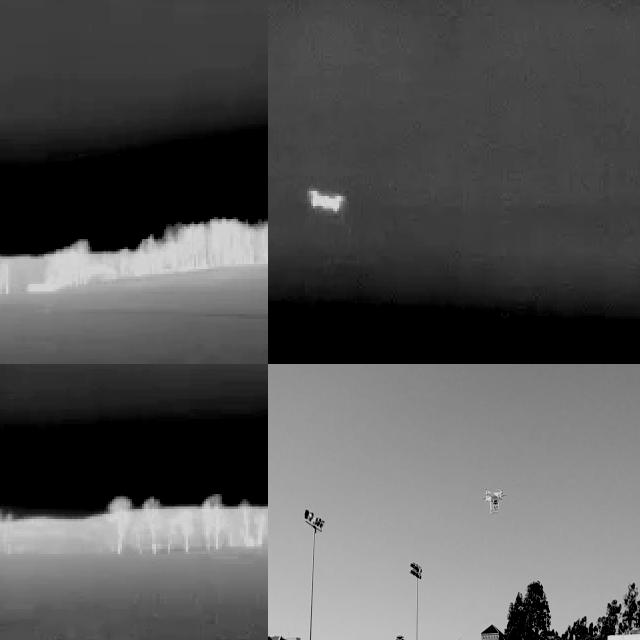1: (296, 186, 356, 221)
drone: (482, 484, 504, 518)
